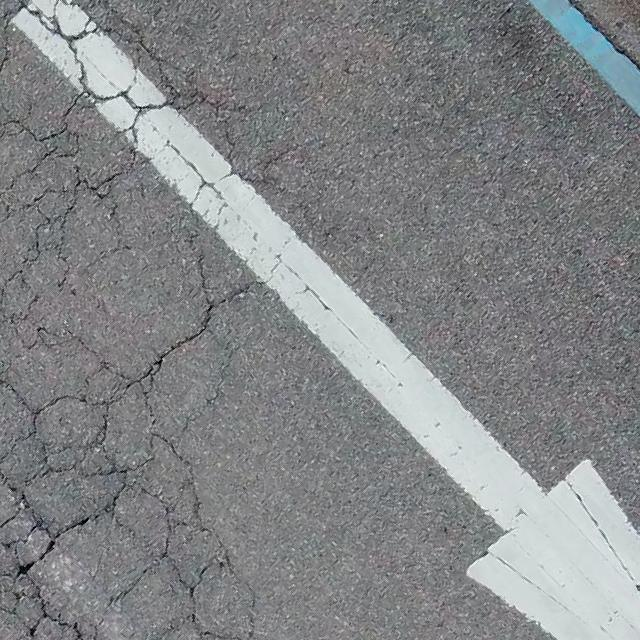PIEL DE COCODRILO: (0, 0, 317, 639)
